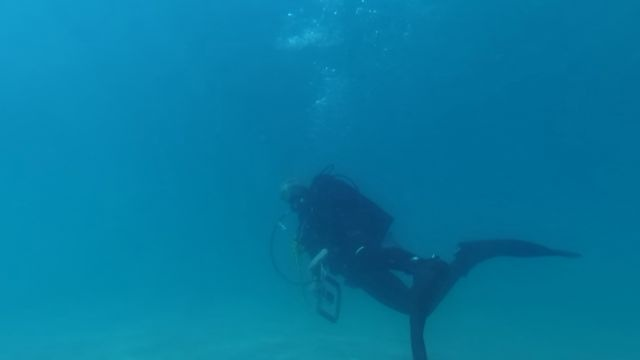Diver: (241, 139, 587, 355)
